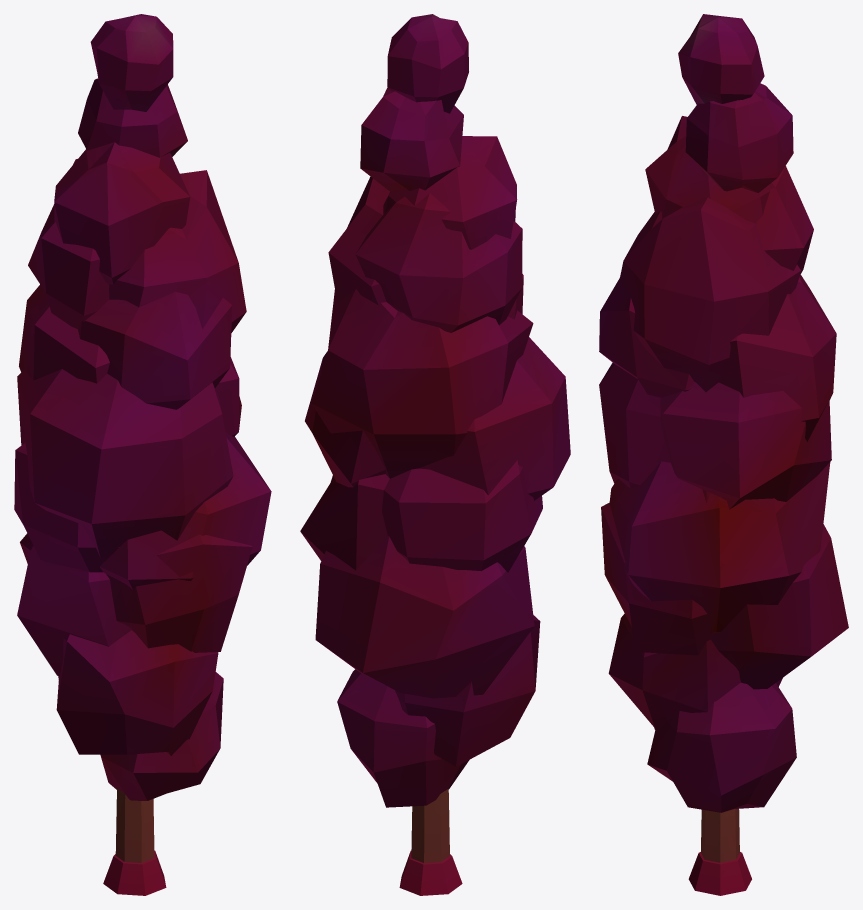
The model's file is Tree_Poplar_01.glb.
3 views of the same model, side by side, from view 1: azimuth 30°, elevation 25°; view 2: azimuth 150°, elevation 25°; view 3: azimuth 270°, elevation 25° (orthographic).
Visible parts, largest first — view 1: Tree_Poplar_01; view 2: Tree_Poplar_01; view 3: Tree_Poplar_01.
Boxes of the visible parts, x1,y1,x2,y2 form: Tree_Poplar_01: [14, 14, 271, 895]; Tree_Poplar_01: [300, 14, 570, 895]; Tree_Poplar_01: [599, 14, 848, 895].
Bounding box in the file's own units: 3.08 × 11.13 × 2.91.
